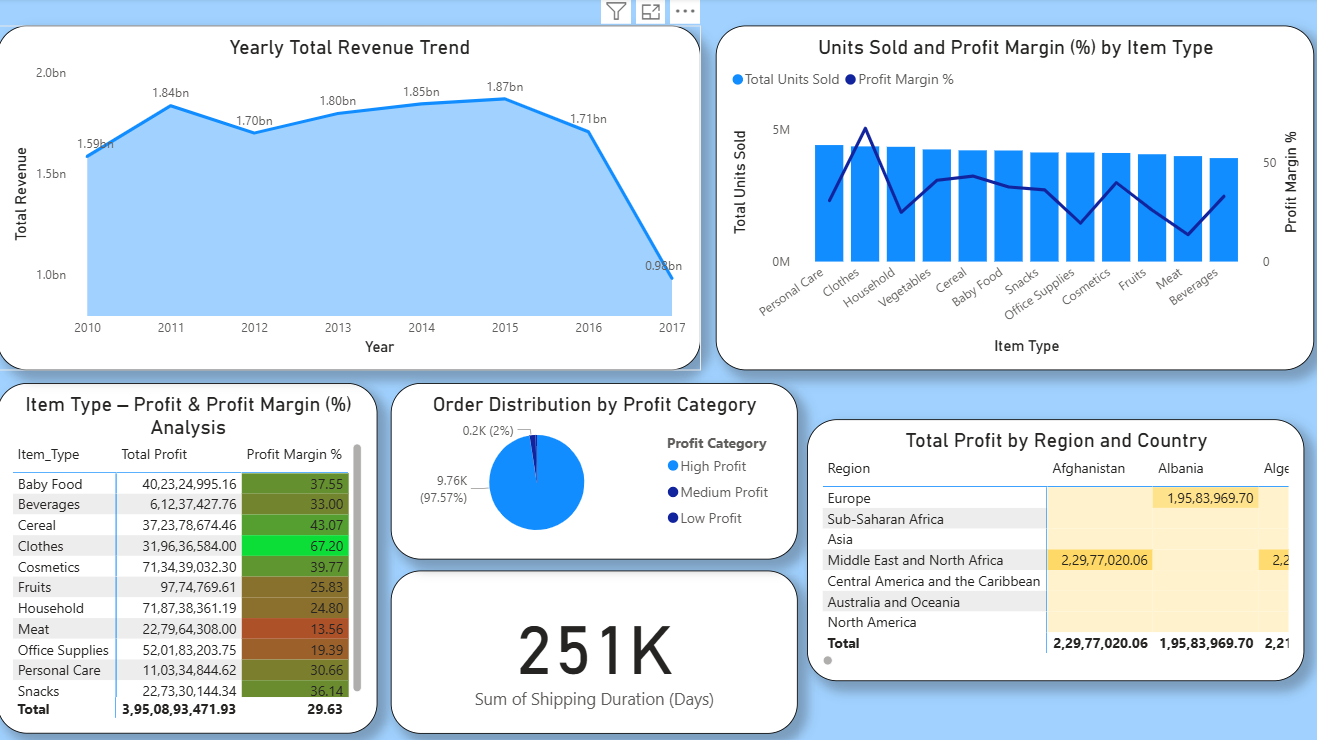

The page's visual inventory and layout, read from the dashboard file:
{"tool":"powerbi","page":{"name":"Page 2","canvas":[1280,720],"ordinal":1},"visuals":[{"type":"pivotTable","title":"Item Type – Profit & Profit Margin (%) Analysis","fields":{"Rows":["sales_new.Item_Type"],"Values":["sales_new.Total Profit","sales_new.Profit Margin %"]},"box":[0,371.2,367.5,338.8],"z":0},{"type":"stackedAreaChart","title":"Yearly Total Revenue Trend","fields":{"Category":["sales_new.Year"],"Y":["sales_new.Total Revenue"]},"box":[0,26.5,679.2,333],"z":1000},{"type":"card","fields":{"Values":["Sum(sales_new.Shipping Duration (Days))"]},"box":[380,552.5,392.5,157.5],"z":2000},{"type":"lineStackedColumnComboChart","title":"Units Sold and Profit Margin (%) by Item Type","fields":{"Category":["sales_new.Item_Type"],"Y":["sales_new.Total Units Sold"],"Y2":["sales_new.Profit Margin %"]},"box":[693.7,26.5,577.9,333],"z":2003},{"type":"pieChart","title":"Order Distribution by Profit Category","fields":{"Category":["sales_new.Profit Category"],"Y":["CountNonNull(sales_new.Order_ID)"]},"box":[380,371.2,392.5,170],"z":2004},{"type":"pivotTable","title":"Total Profit by Region and Country","fields":{"Rows":["sales_new.Region"],"Columns":["sales_new.Country"],"Values":["sales_new.Total Profit"]},"box":[781.2,406.2,480,252.5],"z":2005}]}

Visuals, with their boxes in screenshot pixels (x1, y1, x2, y2), scaled from the page's 1280x720 canvas onto the 1317x740 screenshot:
"Item Type – Profit & Profit Margin (%) Analysis" pivotTable: region(0, 382, 378, 730)
"Yearly Total Revenue Trend" stackedAreaChart: region(0, 27, 699, 369)
card - Sum(sales_new.Shipping Duration (Days)): region(391, 568, 795, 730)
"Units Sold and Profit Margin (%) by Item Type" lineStackedColumnComboChart: region(714, 27, 1308, 369)
"Order Distribution by Profit Category" pieChart: region(391, 382, 795, 556)
"Total Profit by Region and Country" pivotTable: region(804, 417, 1298, 677)
